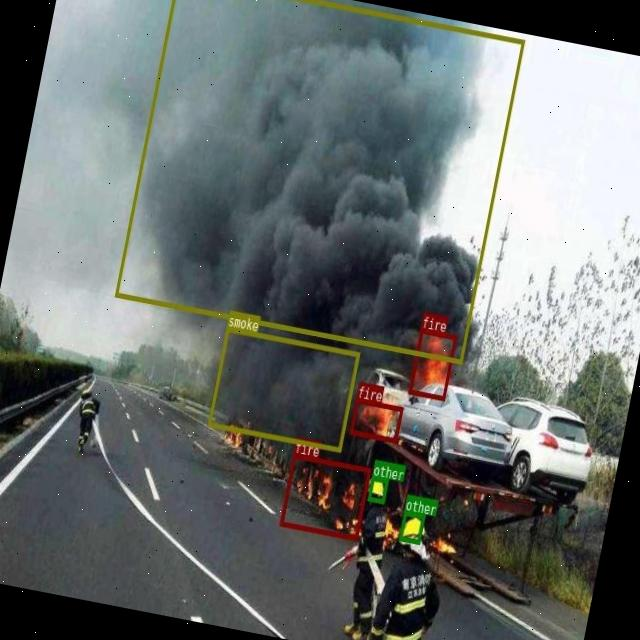fire: (279, 452, 371, 540), (408, 328, 457, 399), (349, 398, 403, 442)
smoke: (114, 0, 524, 363), (206, 326, 360, 451)
